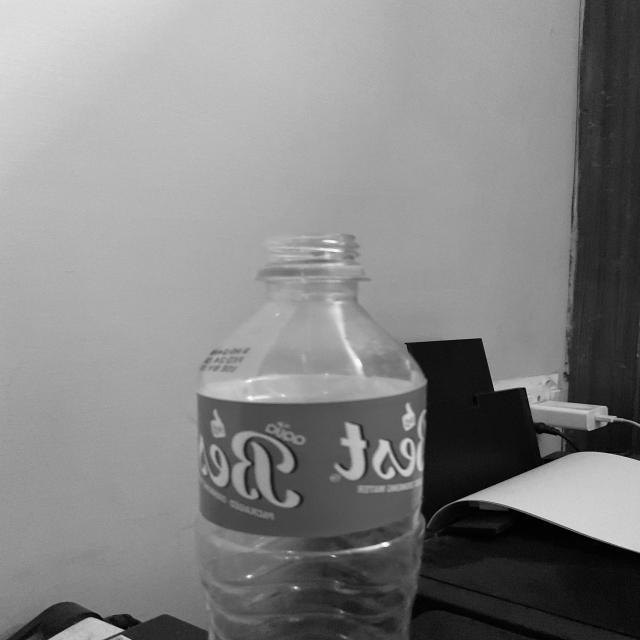open-cap: (254, 232, 366, 277)
